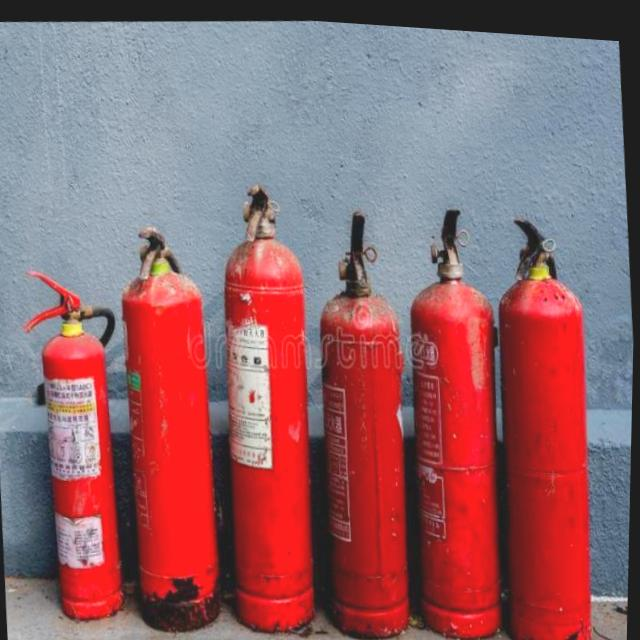FireExtinguisher: (473, 194, 615, 640), (383, 192, 524, 640), (201, 168, 332, 639), (292, 193, 427, 640), (108, 215, 231, 637), (11, 258, 142, 628)
